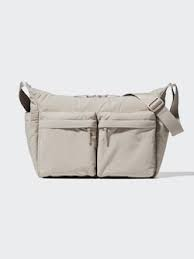bag: (12, 80, 182, 180)
